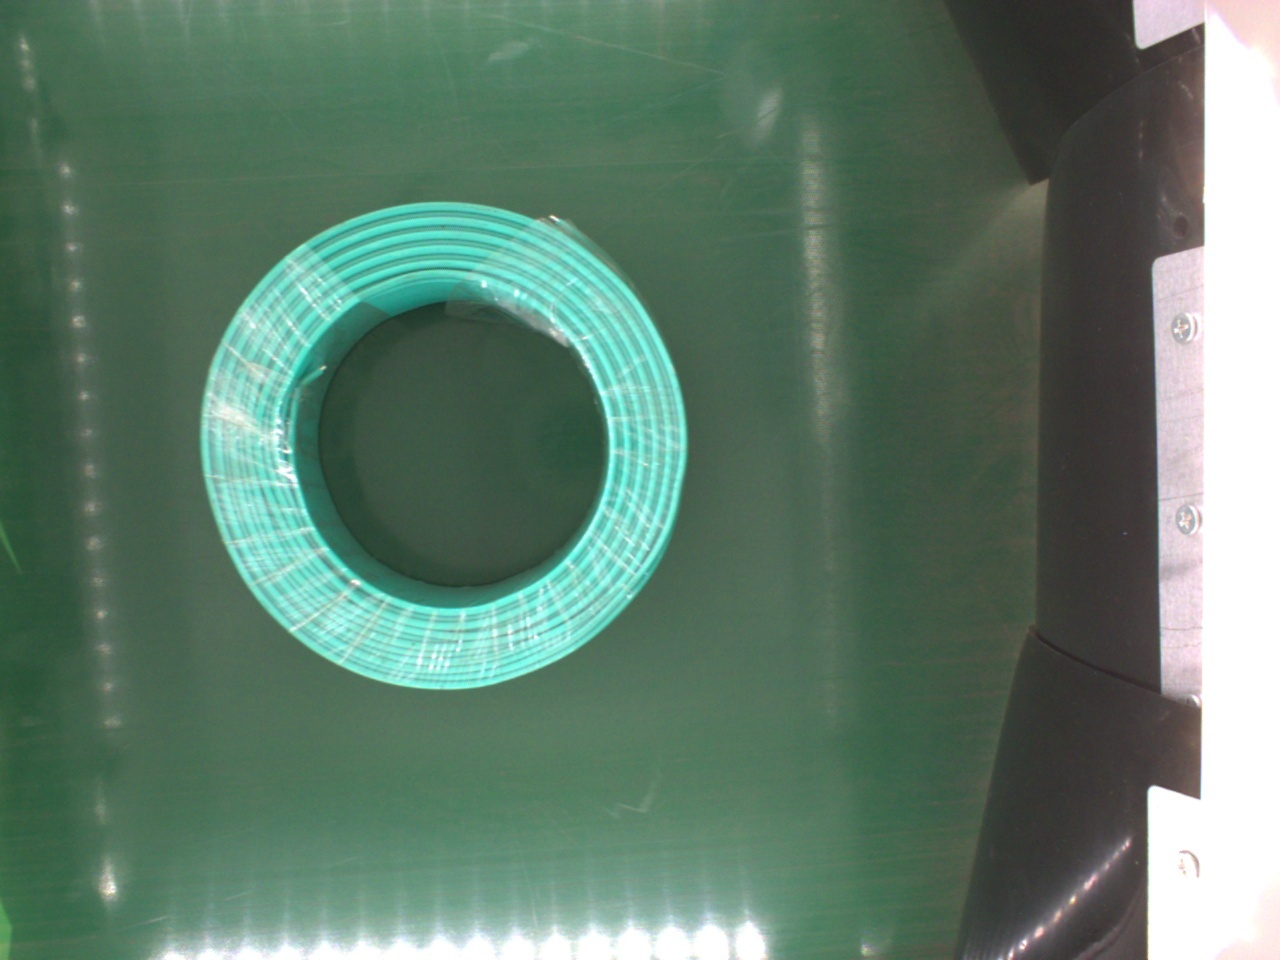green: (196, 202, 690, 696)
